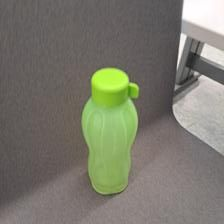bottle: (82, 67, 139, 196)
